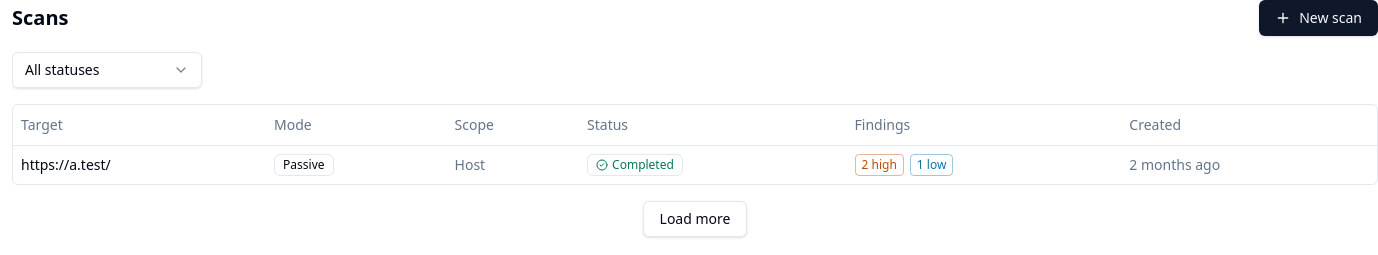
Scenario: ScansPage › appends the next page when 'Load more' is used
Expected: the link "https://a.test/" is shown, [21, 154, 111, 174]
Expected: the text "https://b.test/" is not shown
Click the button "Load more" at (695,218), box [643, 200, 748, 236]
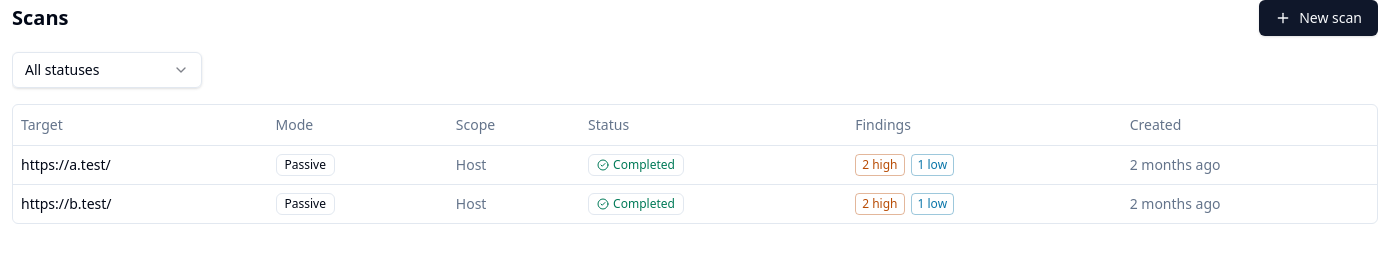
Expected: the link "https://a.test/" is shown, [21, 154, 111, 174]
Expected: the link "https://b.test/" is shown, [21, 194, 112, 212]
